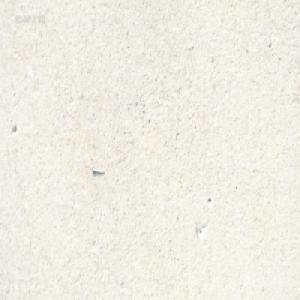Nail: (91, 164, 104, 173)
